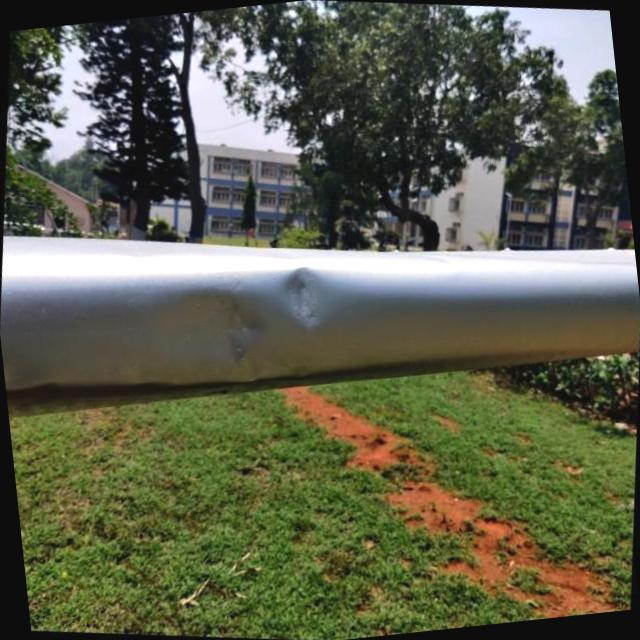dent: (165, 286, 262, 392), (280, 262, 325, 330)
